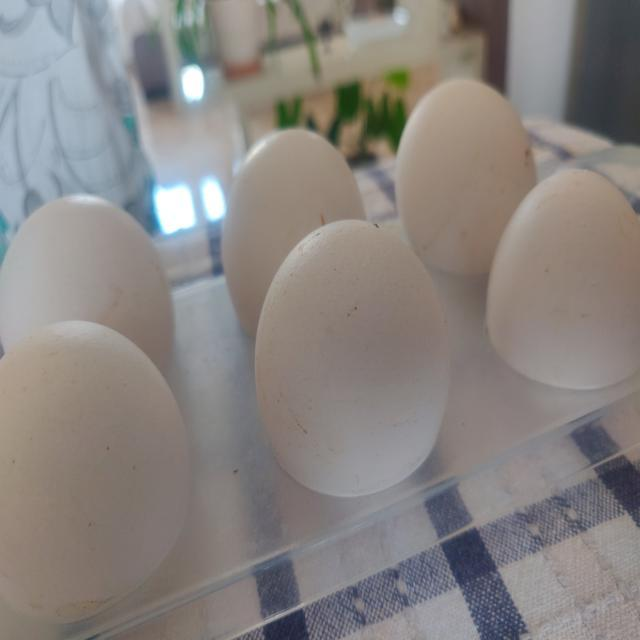Egg: (0, 321, 190, 623), (253, 220, 452, 501), (484, 167, 640, 394), (0, 195, 177, 380), (394, 78, 541, 282), (222, 128, 366, 335)
